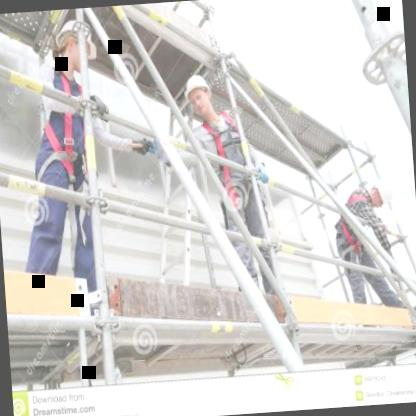helmet: (53, 13, 100, 80), (183, 69, 216, 120), (368, 176, 396, 211)
